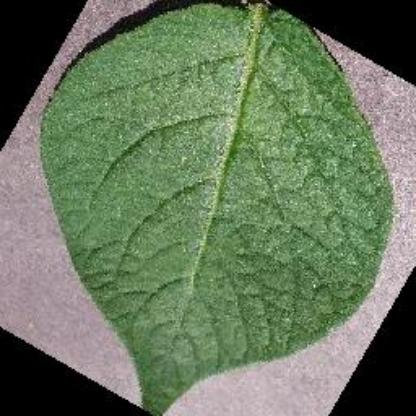Healthy-plant: (15, 1, 400, 414)
